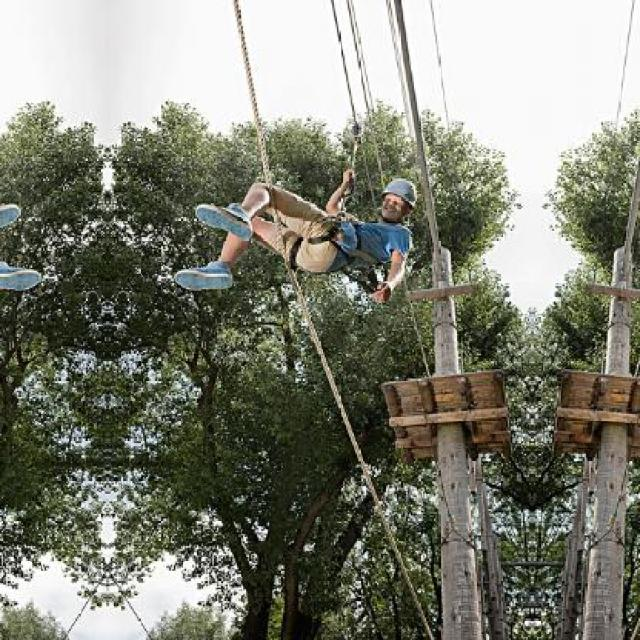helmet: (376, 172, 418, 222)
